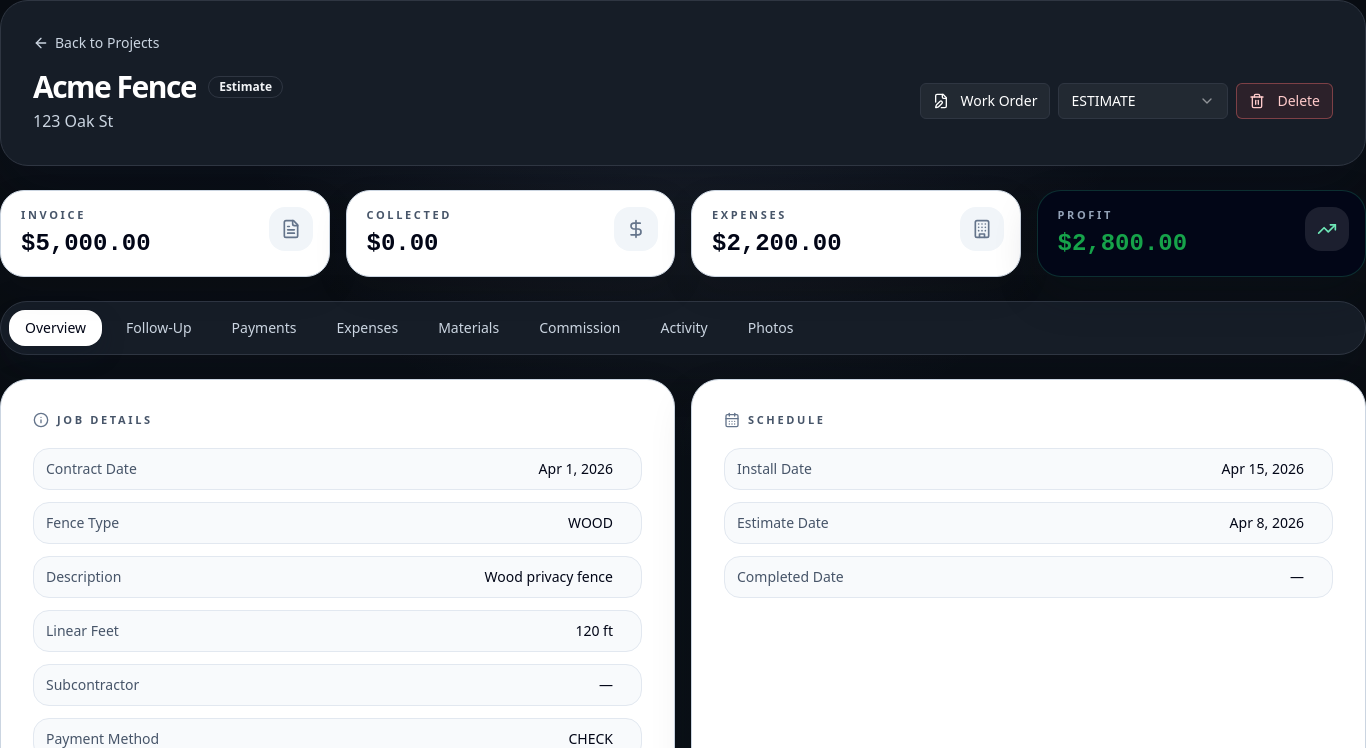
it: Task 5 integrations › renders the project detail Follow-Up tab and no longer exposes the legacy follow-up date editor
Click the tab "Follow-Up".
click(159, 328)  # box [110,310,208,346]
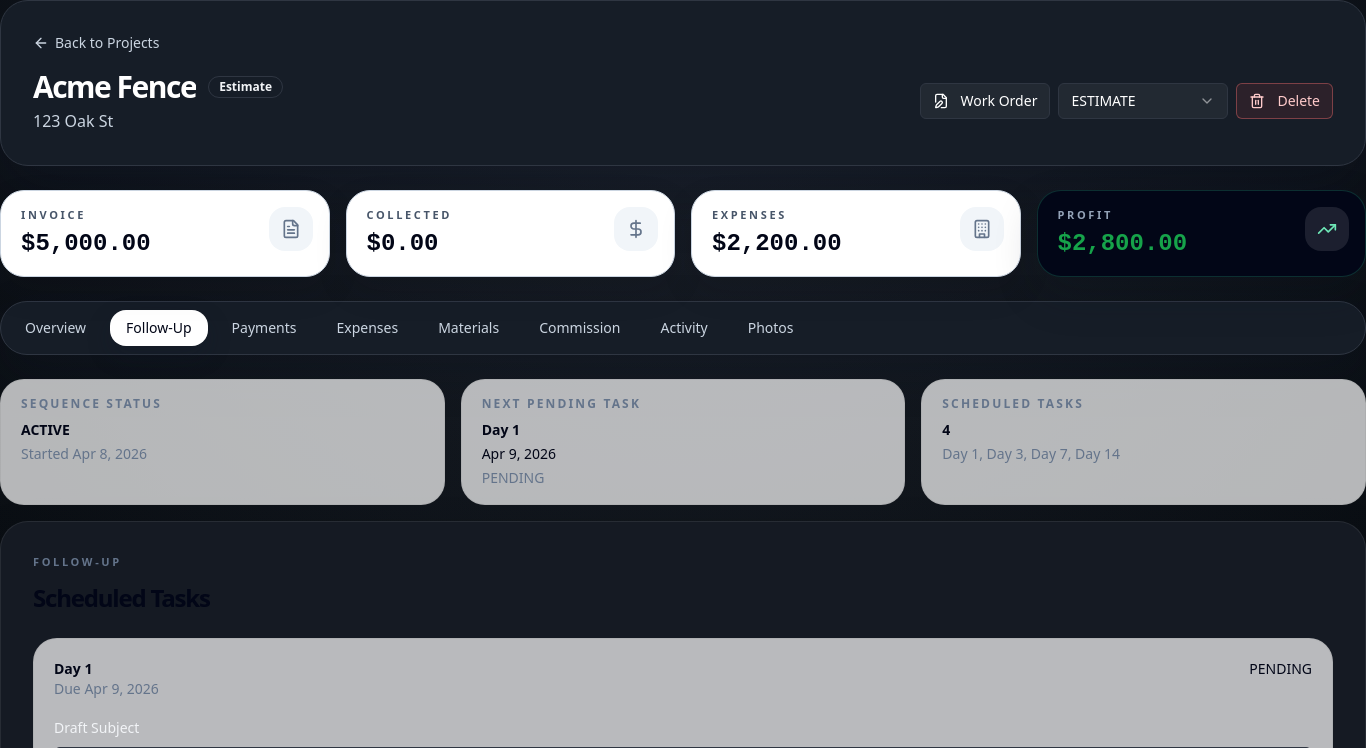
Check: the text "Sequence Status" is shown, box [21,394,162,412]
